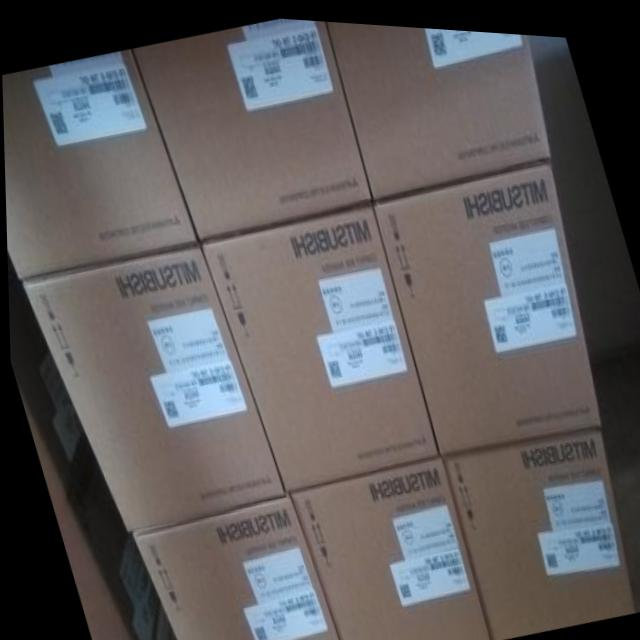box: (21, 242, 284, 534), (199, 201, 436, 491), (373, 156, 599, 450), (131, 15, 372, 239), (132, 15, 373, 236), (2, 48, 198, 281), (437, 421, 631, 632), (326, 17, 552, 198), (289, 452, 486, 640), (131, 492, 337, 640), (6, 255, 86, 517), (55, 443, 158, 640)
